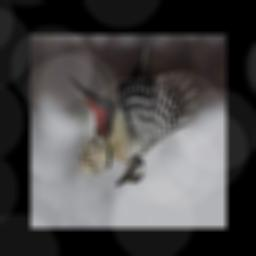Woodpecker: (67, 47, 198, 186)
